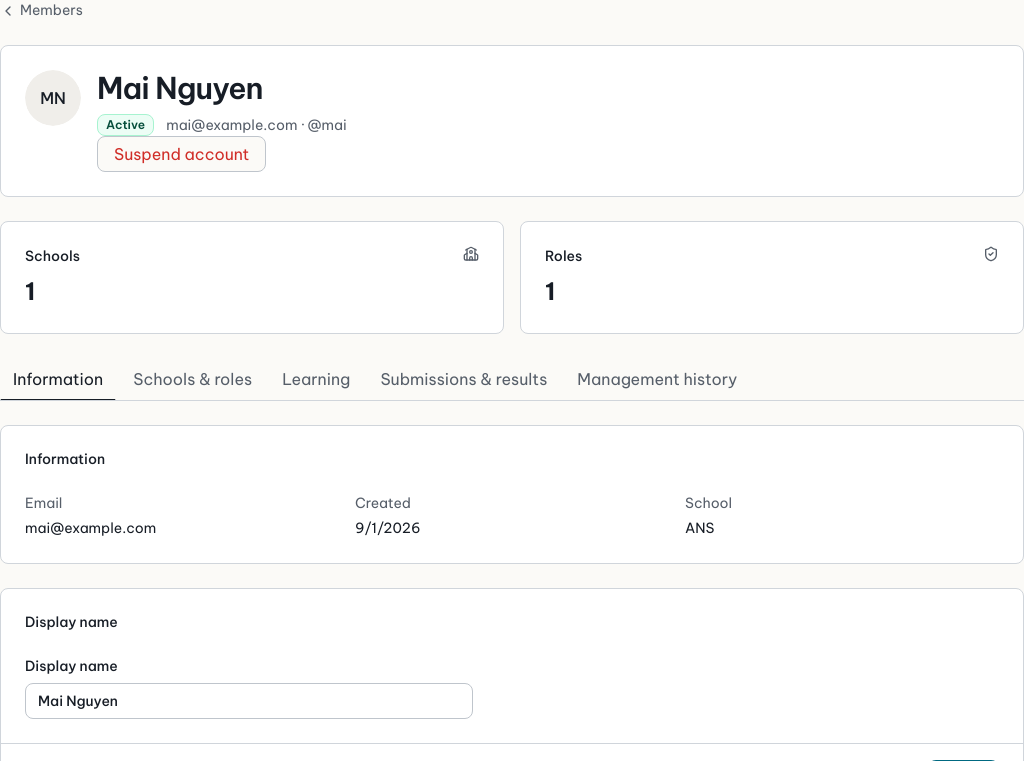
Test: MemberProfile (staff refresh) › shows management history with readable labels and actor names from the actors map
Click the tab "Management history" at (657,379), box [564,358,750,401]
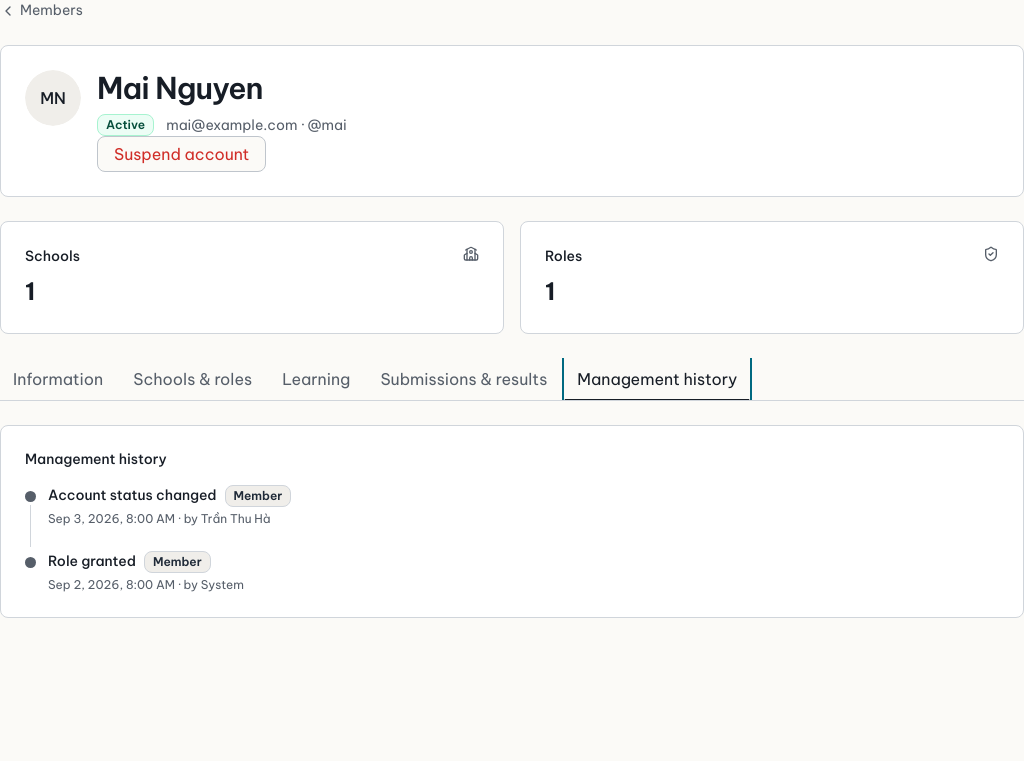
Expected: the text "Account status changed" is shown, [48,486,216,506]
Expected: the text "Role granted" is shown, [48,552,136,572]
Expected: the text "Member" is shown 2 times, [224,485,291,507]; [144,551,211,573]
Click the tab "Schools & roles" at (193,379), box [120,358,265,401]
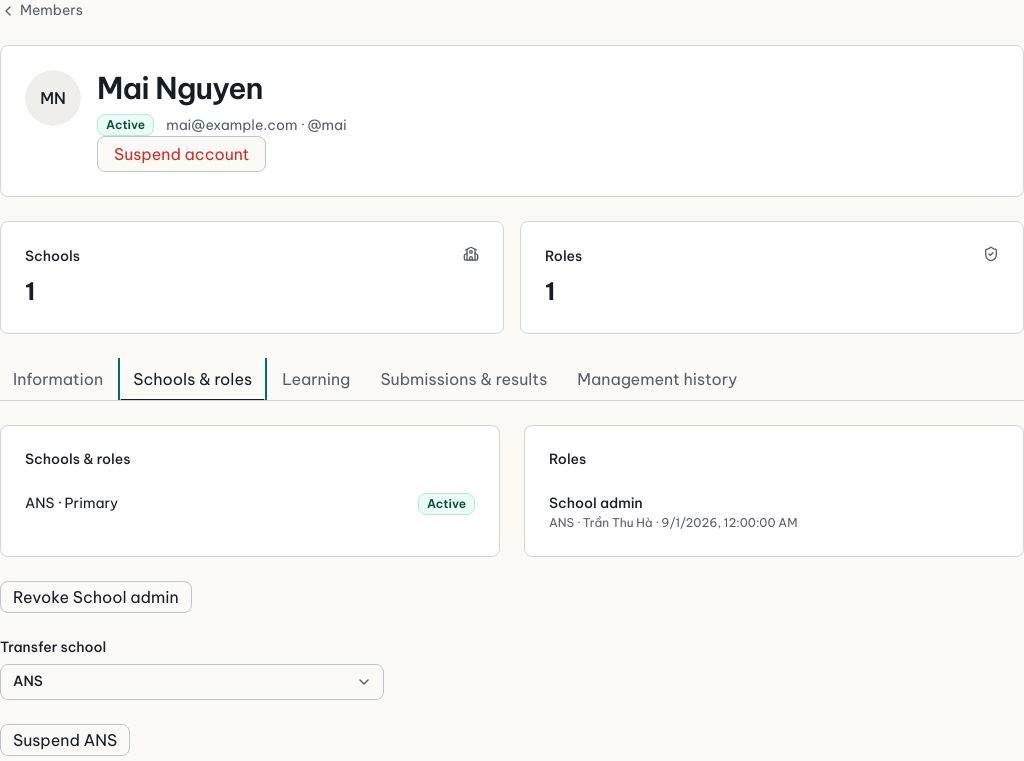
Expected: the text "ANS · Trần Thu Hà · 9/1/2026, 12:00:00 AM" is shown, [549,515,797,530]
